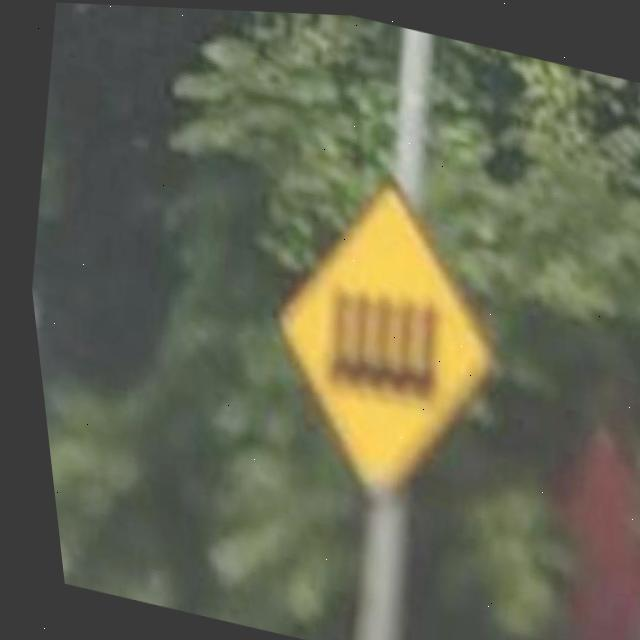Peringatan Perlintasan Kereta Api: (241, 168, 524, 514)
